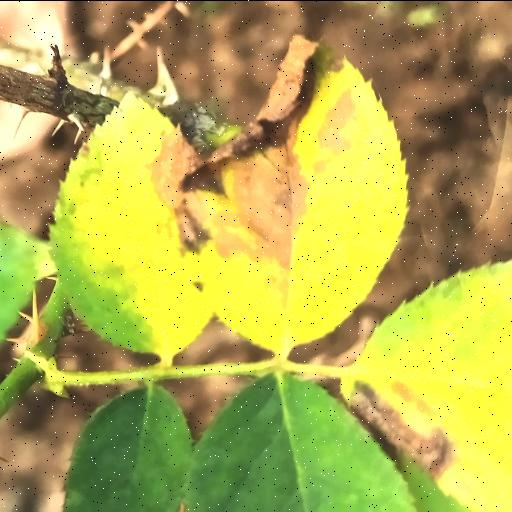healthy_leaf: (184, 374, 416, 512), (64, 384, 192, 512)
thrip: (180, 35, 407, 356), (50, 94, 212, 360), (342, 260, 512, 512)
